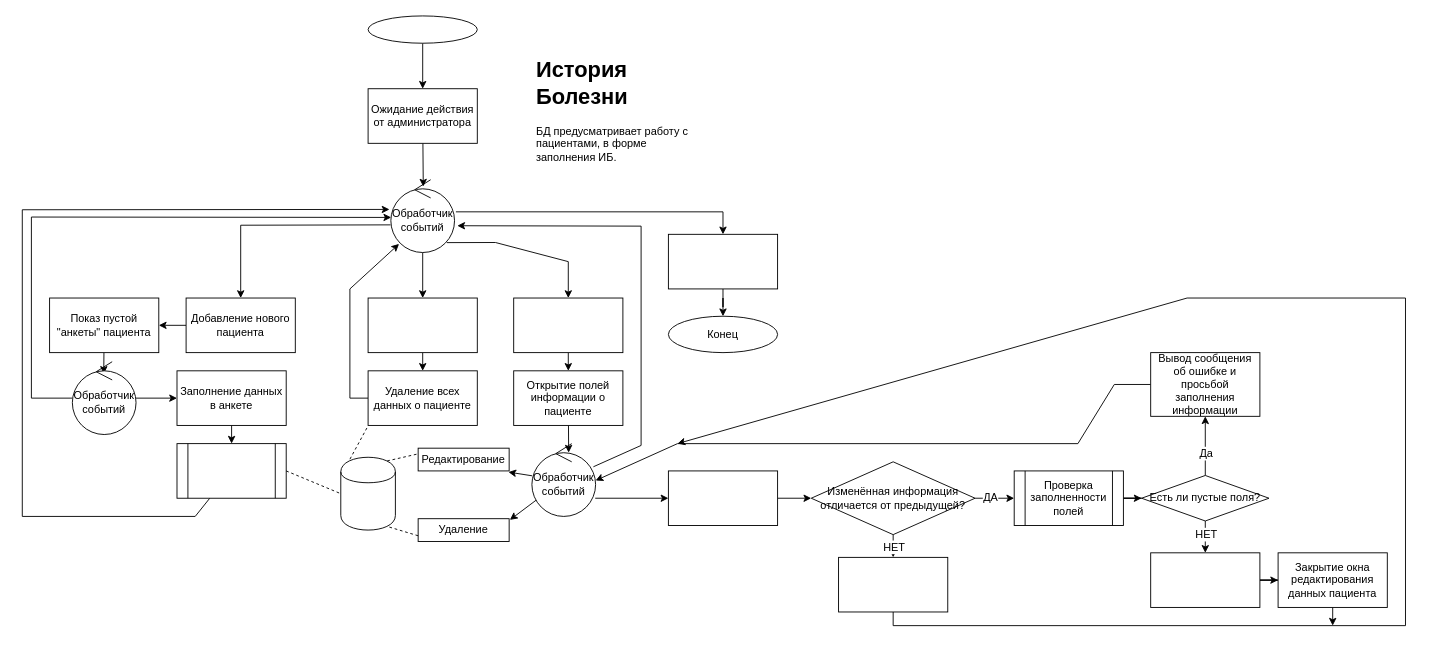
Some shapes in this 1429 by 649 pixel diagram are drawn without their labels. Each missing label, with the centre of its shape:
"БД" goes at [367,493].
"Выход со страницы базы данных" goes at [722,261].
"Закрытие администратором окна редактирования" goes at [722,498].
"Закрытие окна с редактированием информации" goes at [893,584].
"Изменение существующей информации новой" goes at [1205,579].
"Начало" goes at [422,29].
"Работа с БД пациентов" goes at [231,470].
"Редактирование информации о существующем пациенте" goes at [568,325].
"Удаление выбранного пациента" goes at [422,325].
